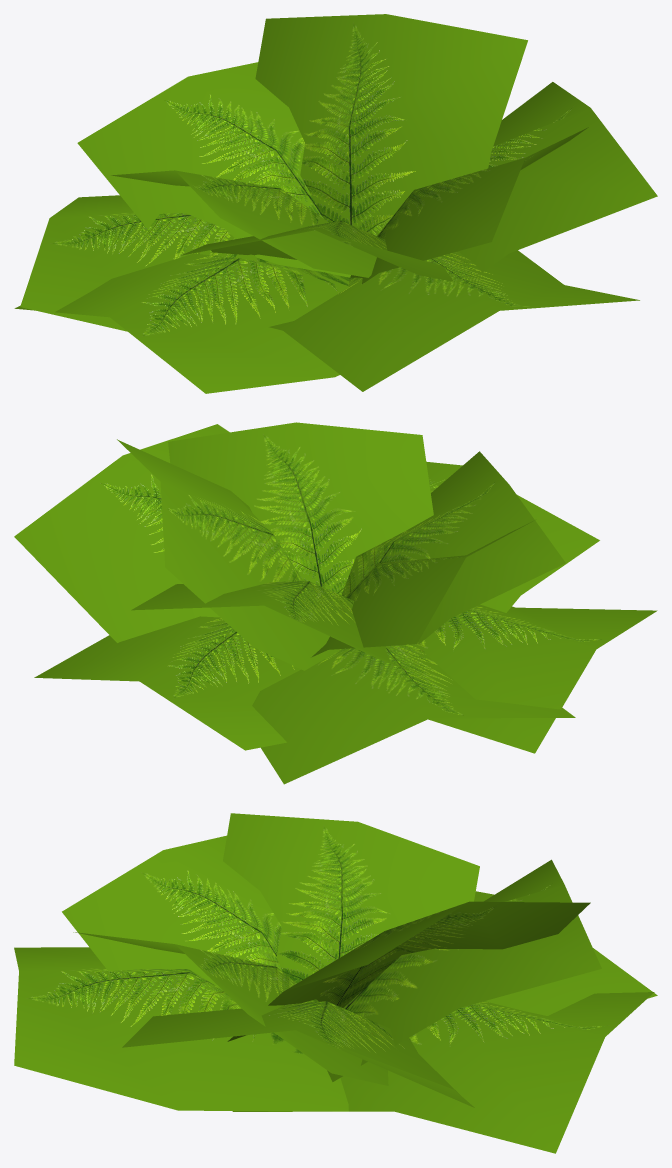
File: bush7.fbx
3 views of the same model, one above another, from view 1: azimuth 30°, elevation 25°; view 2: azimuth 150°, elevation 25°; view 3: azimuth 270°, elevation 25° (orthographic). The views are drawn at different scales.
Parts seen in each view (by area): view 1: bush7; view 2: bush7; view 3: bush7.
Part boxes in pixels (x1,y1,x2,y2): bush7: (14,14,657,393); bush7: (14,422,657,784); bush7: (14,813,657,1153).
Size of the model in its own units: 2 by 0.7362 by 1.9.
